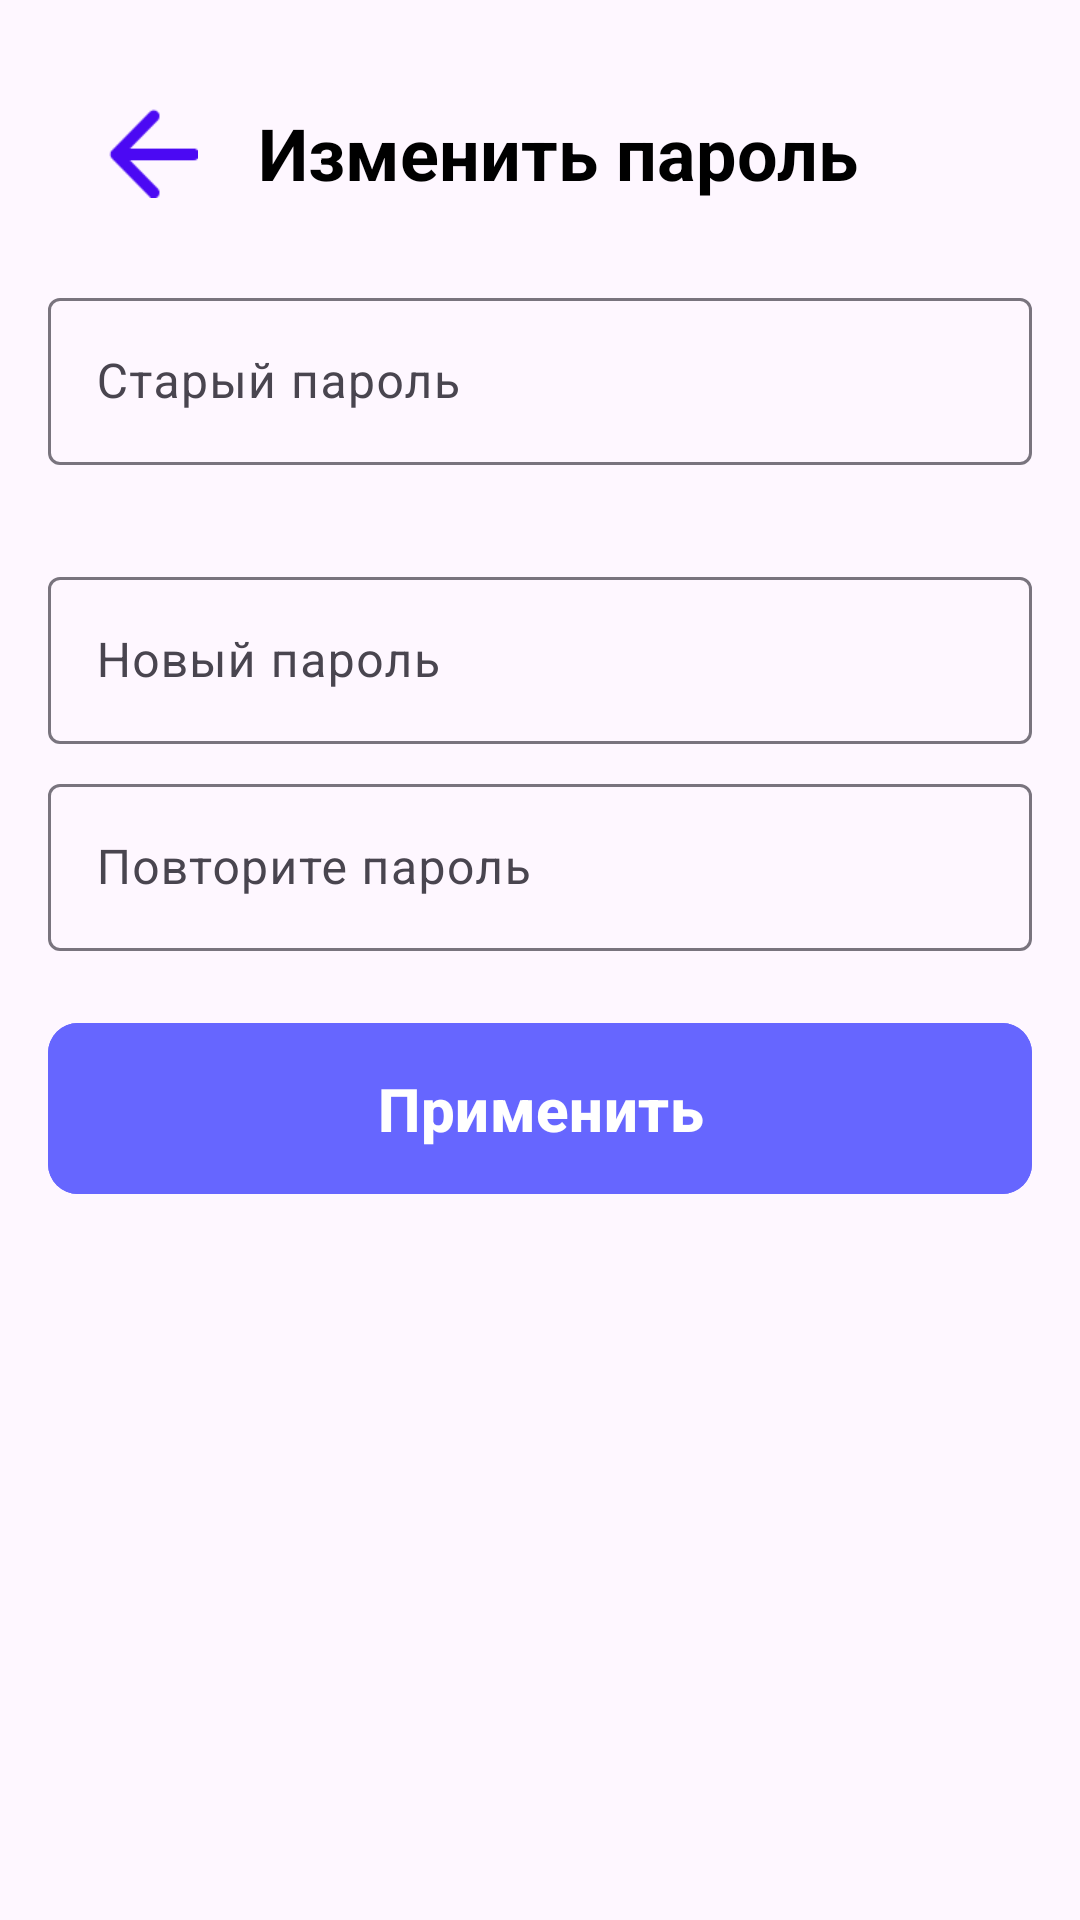

Icon click points for this 1080w x 1920h phone screenshot, format (x,y):
backarr: (153,153)
